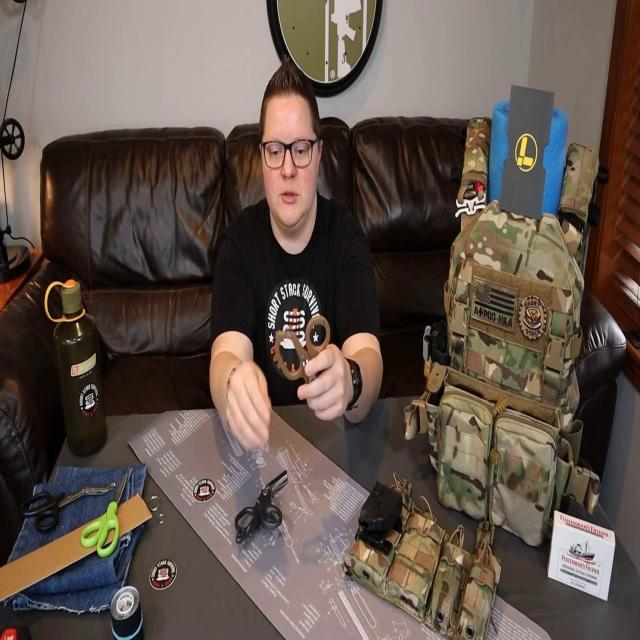scissor: (20, 480, 116, 534), (80, 470, 128, 558), (234, 468, 288, 546), (274, 315, 330, 389)
